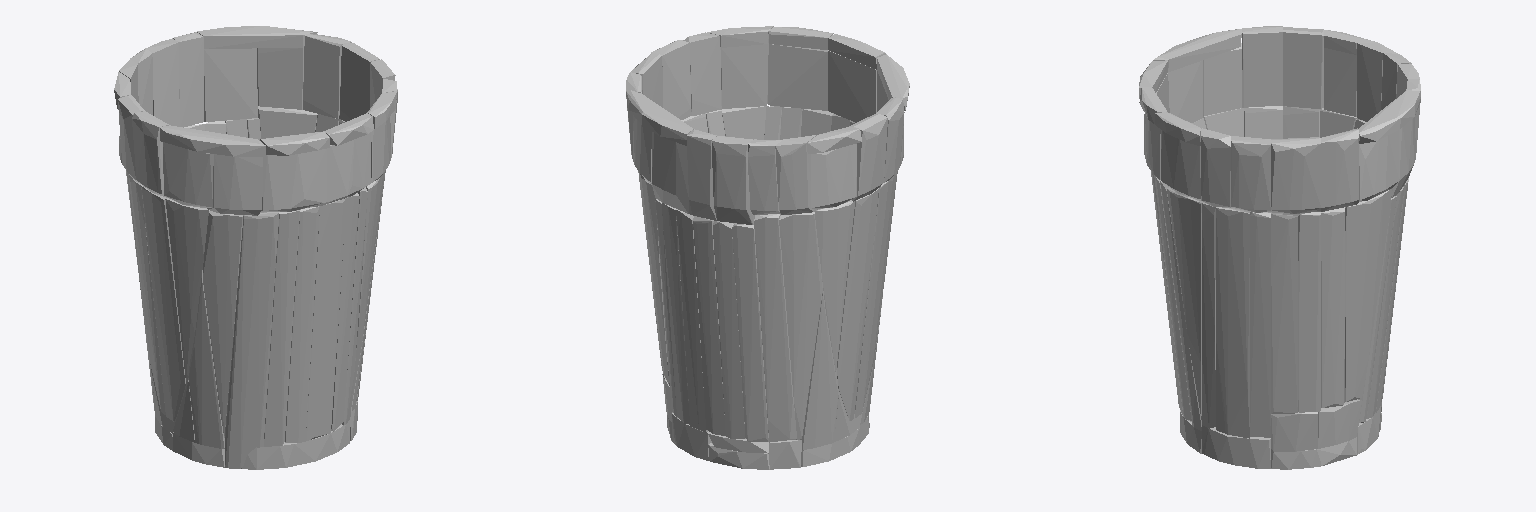
Rendered from plastic_coffee_cup_vhacd.obj.
3 views of the same model, side by side, from view 1: azimuth 30°, elevation 25°; view 2: azimuth 150°, elevation 25°; view 3: azimuth 270°, elevation 25° (orthographic).
Parts seen in each view (by area): view 1: convex_35, convex_31, convex_34, convex_3, convex_59, convex_37, convex_4, convex_47, convex_55, convex_19, convex_27, convex_25 (+24 smaller); view 2: convex_42, convex_43, convex_65, convex_1, convex_50, convex_52, convex_57, convex_0, convex_66, convex_13, convex_45, convex_3 (+28 smaller); view 3: convex_39, convex_49, convex_29, convex_26, convex_38, convex_28, convex_40, convex_30, convex_5, convex_2, convex_60, convex_20 (+28 smaller).
Boxes of the visible parts, <box> form: convex_35: <box>225,212,278,468</box>; convex_31: <box>306,198,345,440</box>; convex_34: <box>203,210,243,437</box>; convex_3: <box>141,186,185,421</box>; convex_59: <box>264,210,299,446</box>; convex_37: <box>285,206,319,442</box>; convex_4: <box>165,198,208,380</box>; convex_47: <box>204,48,257,121</box>; convex_55: <box>261,149,326,211</box>; convex_19: <box>188,270,224,448</box>; convex_27: <box>303,34,351,118</box>; convex_25: <box>331,193,359,431</box>; convex_42: <box>779,212,822,439</box>; convex_43: <box>754,214,796,442</box>; convex_65: <box>732,224,768,441</box>; convex_1: <box>837,188,878,420</box>; convex_50: <box>713,221,745,438</box>; convex_52: <box>693,216,725,435</box>; convex_57: <box>768,44,827,110</box>; convex_0: <box>815,200,854,371</box>; convex_66: <box>676,209,707,432</box>; convex_13: <box>796,291,838,449</box>; convex_45: <box>712,136,754,224</box>; convex_3: <box>855,176,893,417</box>; convex_39: <box>1216,207,1249,438</box>; convex_49: <box>1345,189,1391,401</box>; convex_29: <box>1271,214,1297,413</box>; convex_26: <box>1321,207,1344,407</box>; convex_38: <box>1250,212,1270,437</box>; convex_28: <box>1298,212,1320,412</box>; convex_40: <box>1167,187,1201,419</box>; convex_30: <box>1271,137,1320,213</box>; convex_5: <box>1242,26,1282,107</box>; convex_2: <box>1283,27,1323,108</box>; convex_60: <box>1202,203,1215,428</box>; convex_20: <box>1231,136,1270,212</box>.
Size of the model in its own units: 2.08 by 2.78 by 2.08.